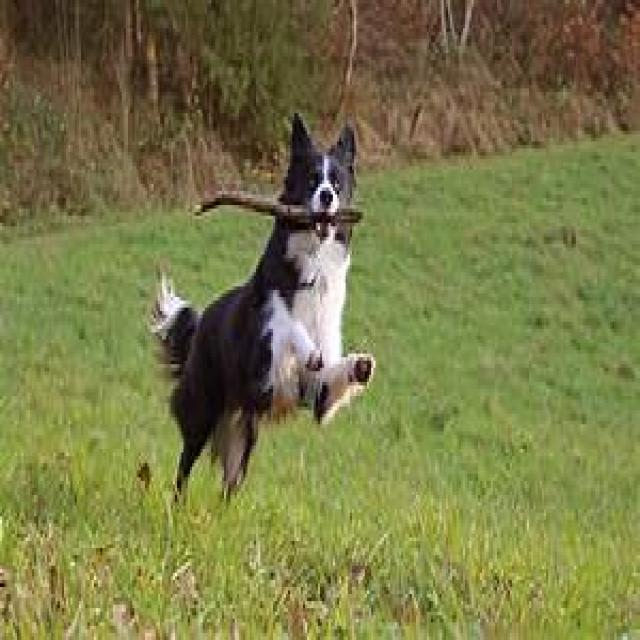dog: (145, 117, 373, 502)
